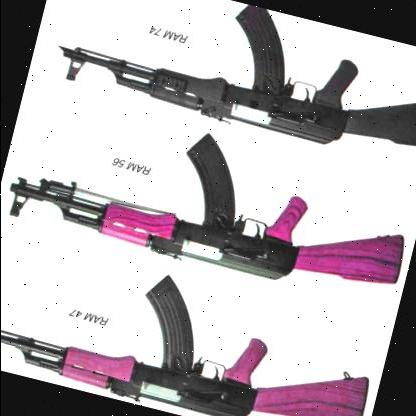rifle: (10, 86, 416, 313), (0, 224, 391, 416), (52, 0, 416, 175)
